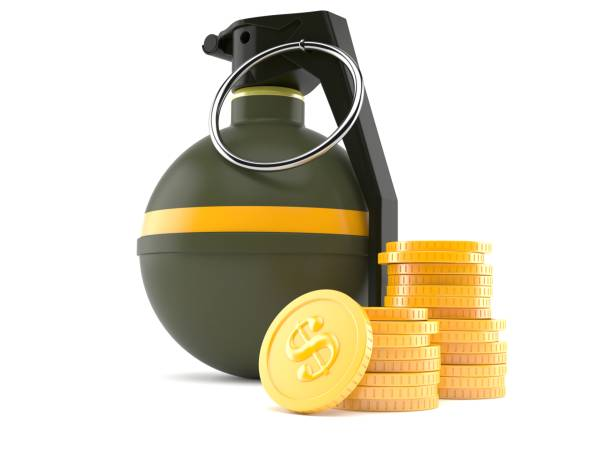e1: (139, 13, 398, 377)
